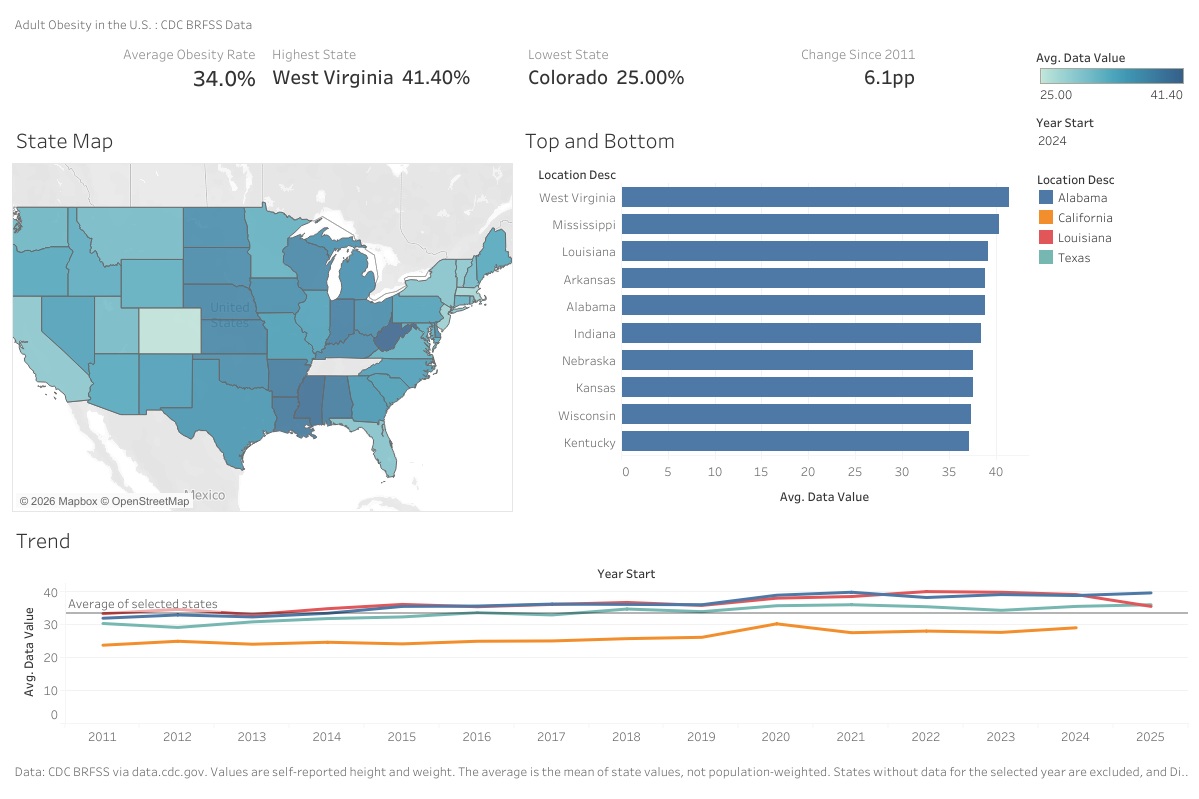

The page's visual inventory and layout, read from the dashboard file:
{"tool":"tableau","page":{"name":"Dashboard","canvas":[1200,800],"ordinal":0},"visuals":[{"type":"text","box":[8,8,1184,32]},{"type":"worksheet","title":"National average","mark":"Automatic","box":[8,40,256,76]},{"type":"worksheet","title":"KPI Highest","mark":"Automatic","box":[264,40,256,76]},{"type":"worksheet","title":"KPI Lowest","mark":"Automatic","box":[520,40,256,76]},{"type":"worksheet","title":"KPI Change","mark":"Automatic","box":[776,40,256,76]},{"type":"legend","title":"State Map","param":"[federated.0qk7tml1xlb1x7185ew5416v183o].[avg:Data_Value:qk]","box":[1032,40,160,65]},{"type":"filter","title":"Top and Bottom","param":"[federated.0qk7tml1xlb1x7185ew5416v183o].[none:YearStart:ok]","box":[1032,105,160,52]},{"type":"worksheet","title":"State Map","mark":"Automatic","box":[8,116,509,400]},{"type":"worksheet","title":"Top and Bottom","mark":"Automatic","rows":["LocationDesc"],"cols":["Data_Value"],"box":[517,116,515,400]},{"type":"legend","title":"Trend","param":"[federated.0qk7tml1xlb1x7185ew5416v183o].[none:LocationDesc:nk]","box":[1032,157,160,106]},{"type":"worksheet","title":"Trend","mark":"Line","rows":["Data_Value"],"cols":["YearStart"],"box":[8,516,1184,233]},{"type":"text","box":[8,749,1184,43]}]}

Visuals, with their boxes in screenshot pixels (x1, y1, x2, y2), scaled from the page's 1200x800 canvas onto the 1199x799 screenshot:
text: 8, 8, 1191, 40
"National average" worksheet: 8, 40, 264, 116
"KPI Highest" worksheet: 264, 40, 520, 116
"KPI Lowest" worksheet: 520, 40, 775, 116
"KPI Change" worksheet: 775, 40, 1031, 116
"State Map" legend: 1031, 40, 1191, 105
"Top and Bottom" filter: 1031, 105, 1191, 157
"State Map" worksheet: 8, 116, 517, 515
"Top and Bottom" worksheet: 517, 116, 1031, 515
"Trend" legend: 1031, 157, 1191, 263
"Trend" worksheet (Line marks): 8, 515, 1191, 748
text: 8, 748, 1191, 791
